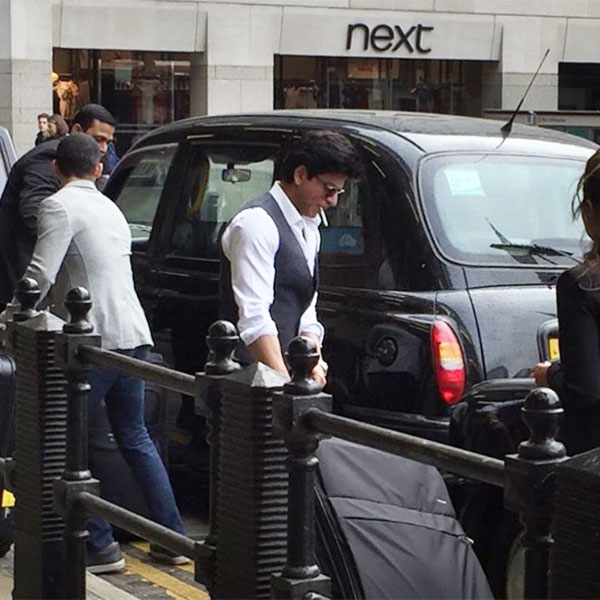cigarette: (316, 201, 332, 228)
